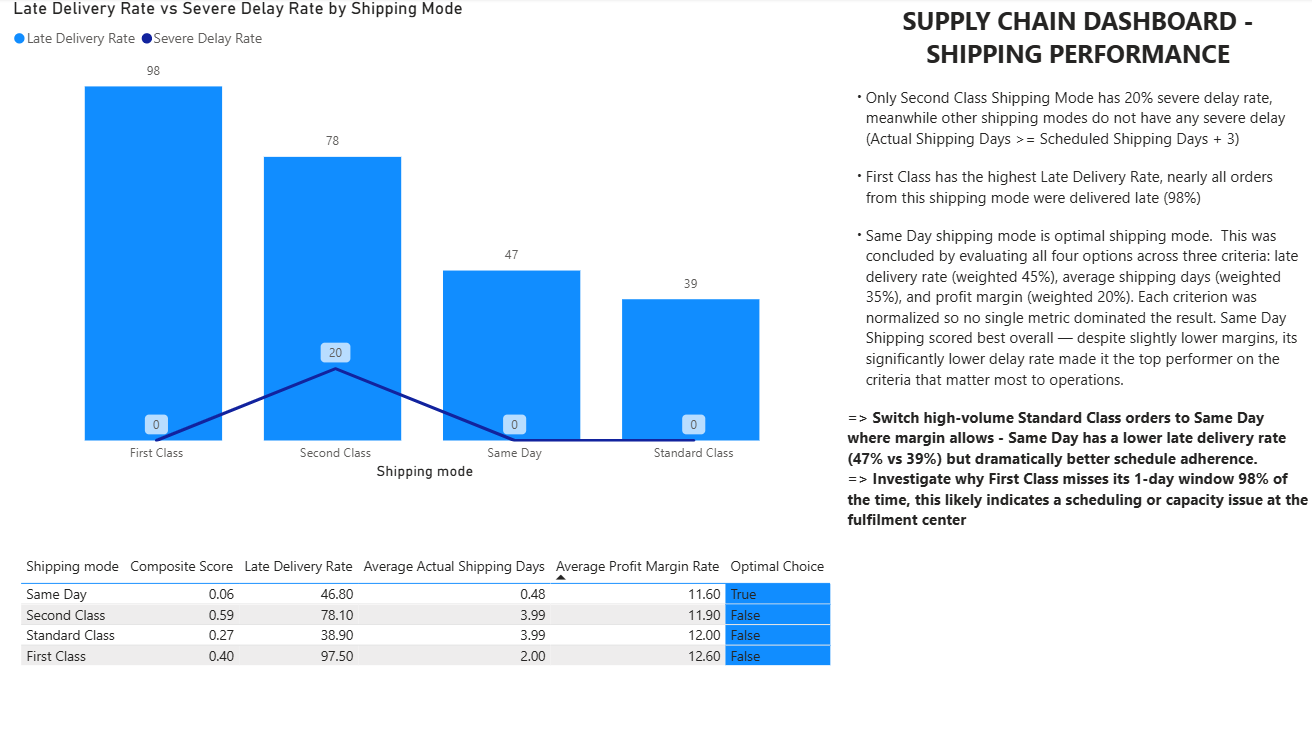

The page's visual inventory and layout, read from the dashboard file:
{"tool":"powerbi","page":{"name":"Shipping Performace","canvas":[1280,720],"ordinal":1},"visuals":[{"type":"lineStackedColumnComboChart","title":"Late Delivery Rate vs Severe Delay Rate by Shipping Mode","fields":{"Category":["shipping_kpi.shipping_mode"],"Y2":["Avg(shipping_kpi.severe_delay_pct)"],"Y":["Avg(shipping_kpi.late_delivery_pct)"]},"box":[9.9,0,811.3,473.7],"z":0},{"type":"tableEx","fields":{"Values":["shipping_kpi.shipping_mode","shipping_kpi.composite_score","shipping_kpi.late_delivery_pct","shipping_kpi.avg_actual_days","shipping_kpi.avg_profit_margin_pct","shipping_kpi.recommended"]},"box":[16.1,537.3,805.1,172.8],"z":1000},{"type":"textbox","box":[820.9,0,459.1,623.5],"z":2000}]}

Visuals, with their boxes in screenshot pixels (x1, y1, x2, y2), scaled from the page's 1280x720 canvas onto the 1312x735 screenshot:
"Late Delivery Rate vs Severe Delay Rate by Shipping Mode" lineStackedColumnComboChart: BBox(10, 0, 842, 484)
tableEx - shipping_kpi.shipping_mode x shipping_kpi.composite_score: BBox(17, 548, 842, 725)
textbox: BBox(841, 0, 1311, 636)
